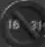No waiting: (2, 1, 43, 43)
